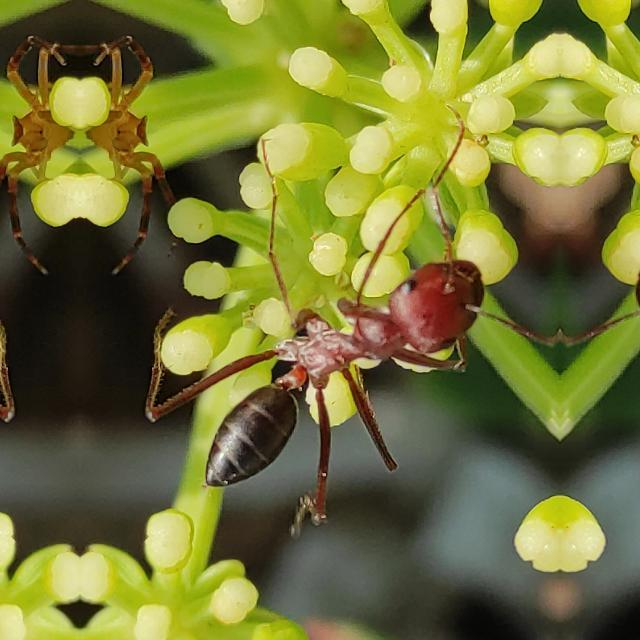Cataglyphis: (176, 206, 509, 522)
